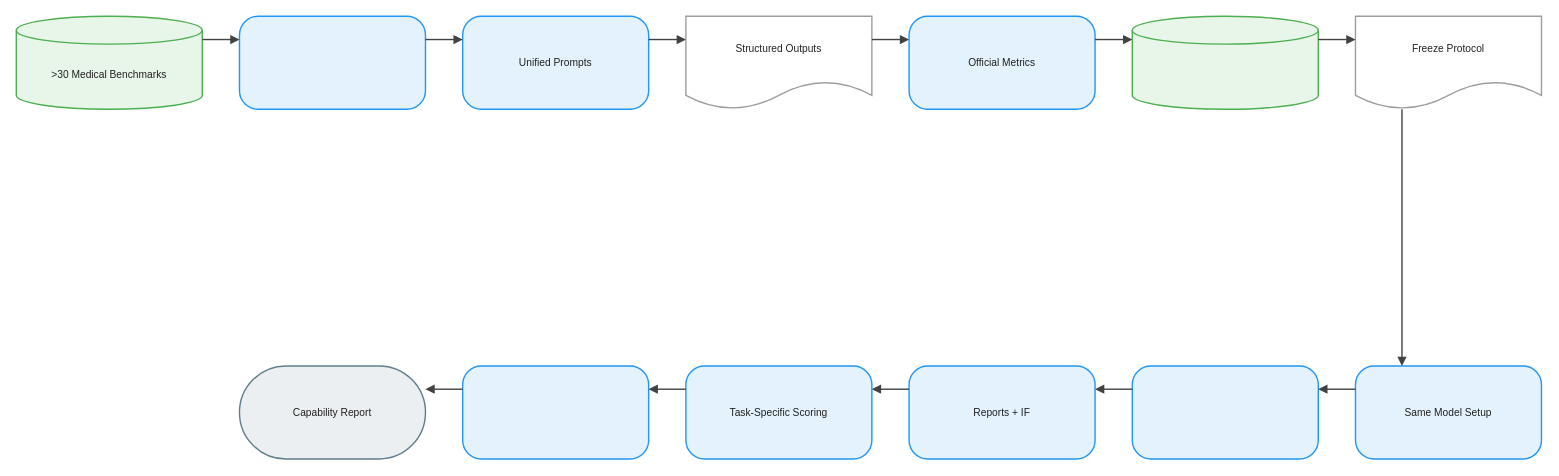
Image size: 1559x476. Some labels were removed from this diagram. The centre of each missing label's shape, as x and y in pixels:
"6 Capability Families" belongs at pixel 332 62.
"In-House Faithfulness Tests" belongs at pixel 1225 62.
"Omission / Addition Check" belongs at pixel 555 412.
"Visual + Diagnosis + Text" belongs at pixel 1225 412.
